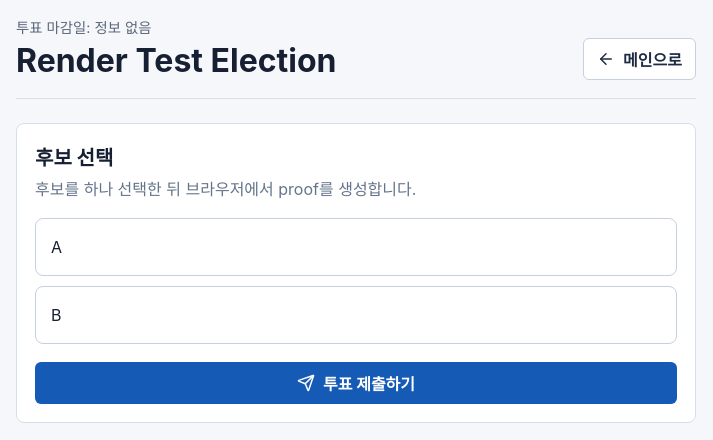
VotePage › G5: aborts the vote when the artifact manifest is missing (no unverified fetch)
This screenshot has width=713, height=440.
What coordinates should you click on to do the following:
click the button "A"
I would click on:
 (57, 247)
Its box is [35, 218, 677, 276].
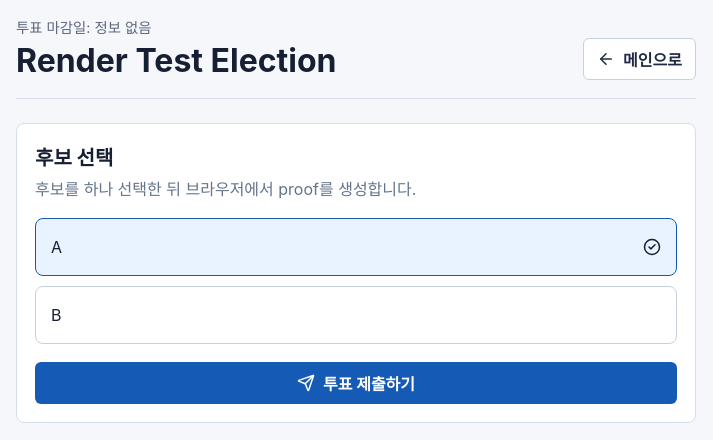
What coordinates should you click on to do the following:
click the button "투표 제출하기"
I would click on:
 (356, 383)
Its box is [35, 362, 677, 404].
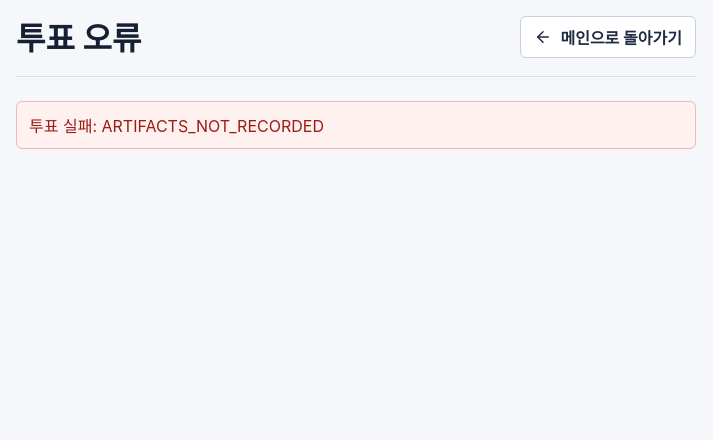
Expected: the heading "투표 오류" is shown, [16, 21, 141, 58]
Expected: the text "투표 실패: ARTIFACTS_NOT_RECORDED" is shown, [16, 101, 696, 149]
